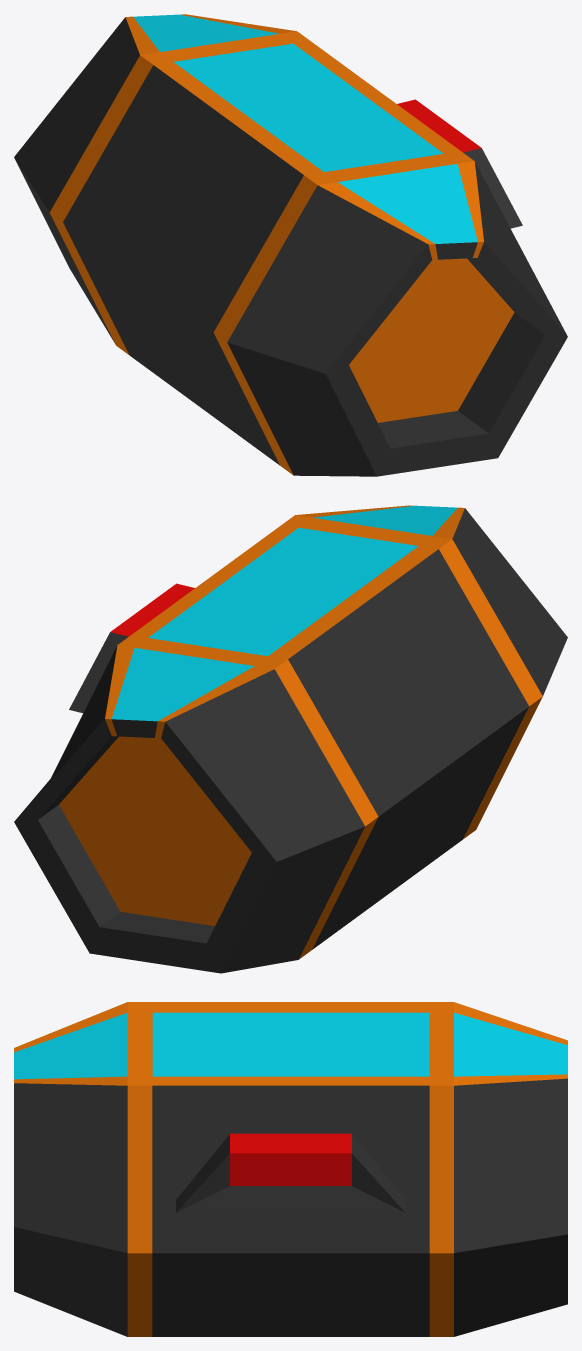
File: mob1.fbx
3 views of the same model, one above another, from view 1: azimuth 30°, elevation 25°; view 2: azimuth 150°, elevation 25°; view 3: azimuth 270°, elevation 25° (orthographic). The views are drawn at different scales.
Visible parts, largest first — view 1: Cylinder, Cube; view 2: Cylinder, Cube; view 3: Cylinder, Cube.
Part boxes in pixels (<box>): Cylinder: <box>14,14,567,476</box>; Cube: <box>397,99,522,228</box>; Cylinder: <box>14,505,567,973</box>; Cube: <box>69,583,194,712</box>; Cylinder: <box>14,1002,567,1336</box>; Cube: <box>176,1133,405,1212</box>.
Size of the model in its own units: 204 by 181 by 331.
